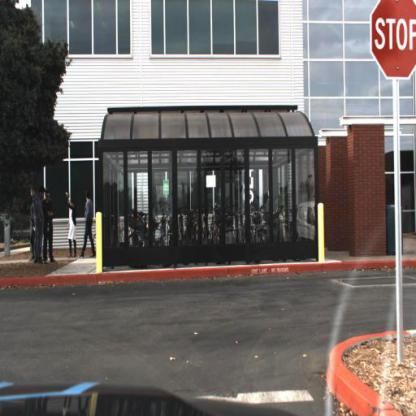pedestrian: (78, 189, 96, 259), (82, 188, 98, 263), (66, 196, 81, 261), (28, 188, 40, 267), (36, 188, 48, 267), (44, 188, 55, 266), (43, 188, 54, 262)
